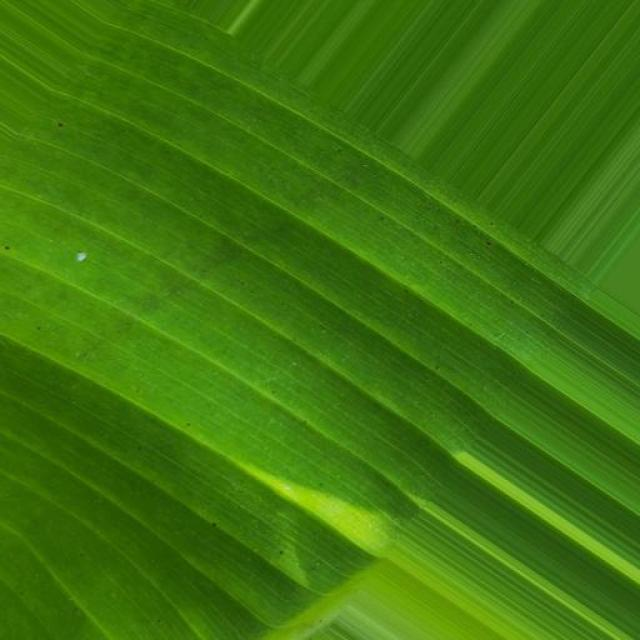Black_leaf_spot: (0, 1, 527, 611)
